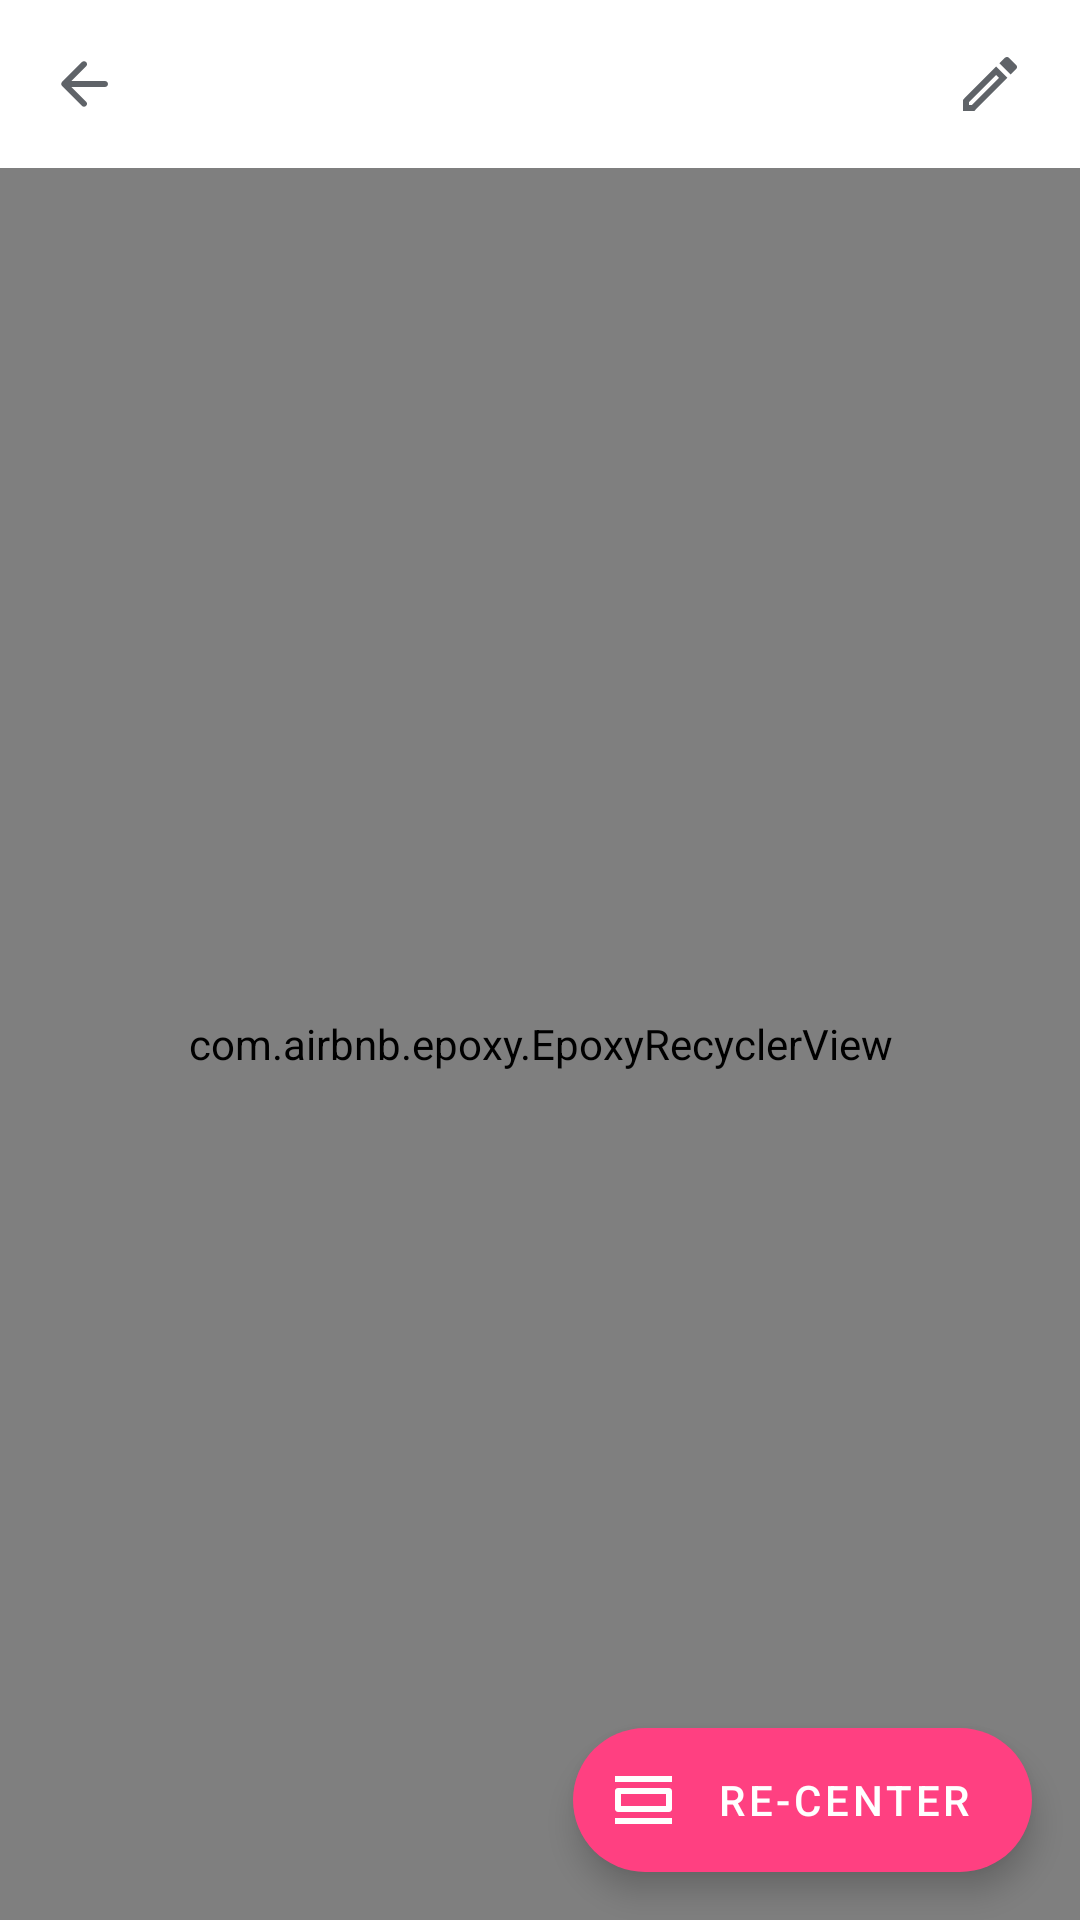

Locate icon controls on the screen. Image size 1080×1920, boxes as (x1,y1,x2,y2).
arrow back: (61,61,108,107)
edit: (963,57,1017,111)
